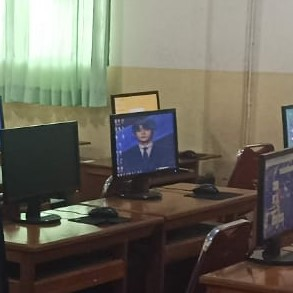monitor: (107, 108, 197, 199), (0, 121, 81, 206), (255, 146, 292, 260), (110, 90, 160, 115), (281, 105, 293, 149)
